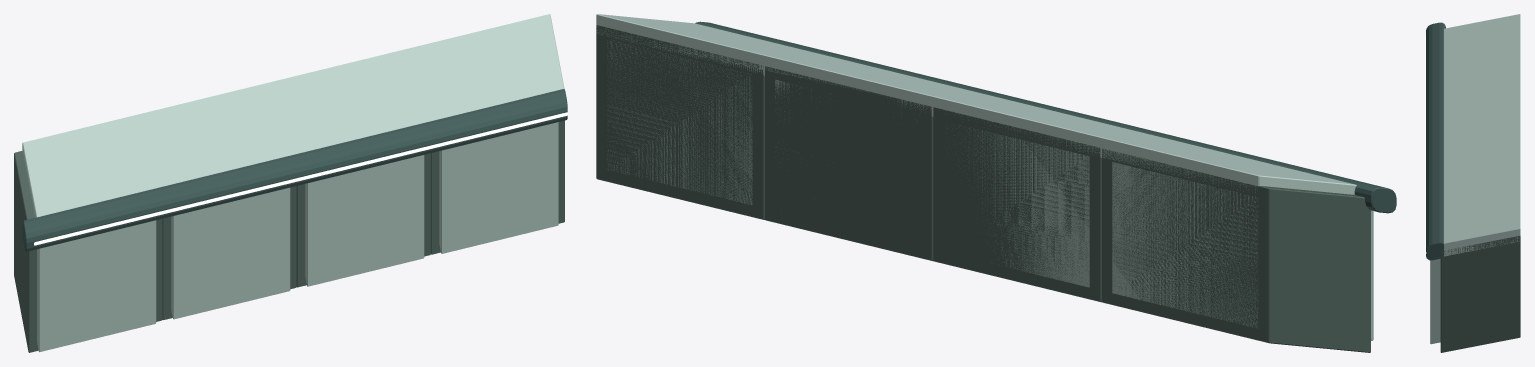
File: Terrain_TopRun4L.gltf
3 renders of one model, left to right at view 1: azimuth 30°, elevation 25°; view 2: azimuth 150°, elevation 25°; view 3: azimuth 270°, elevation 25°, orthographic. The views are drawn at different scales.
Parts seen in each view (by area): view 1: Terrain_TopRun4L_baked; view 2: Terrain_TopRun4L_baked; view 3: Terrain_TopRun4L_baked.
Boxes of the visible parts, x1,y1,x2,y2 form: Terrain_TopRun4L_baked: (14, 14, 567, 352); Terrain_TopRun4L_baked: (596, 14, 1396, 352); Terrain_TopRun4L_baked: (1425, 14, 1520, 352).
Bounding box in the file's own units: 4.33 × 1.18 × 0.74.
